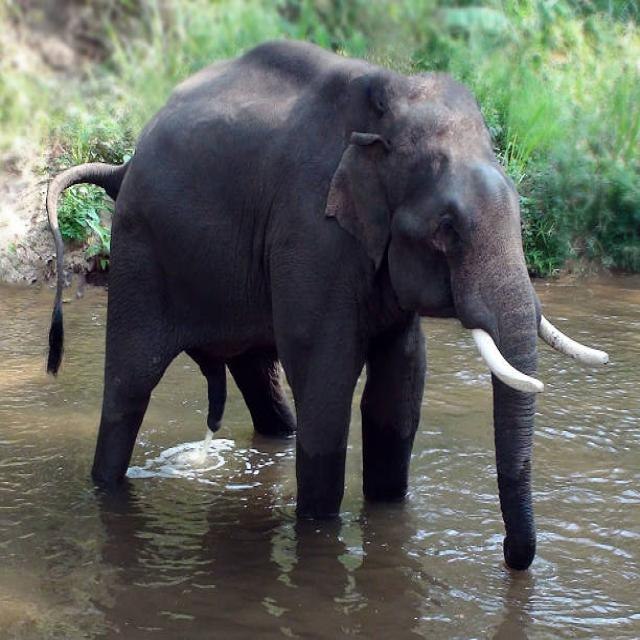Elephant: (44, 27, 609, 566)
